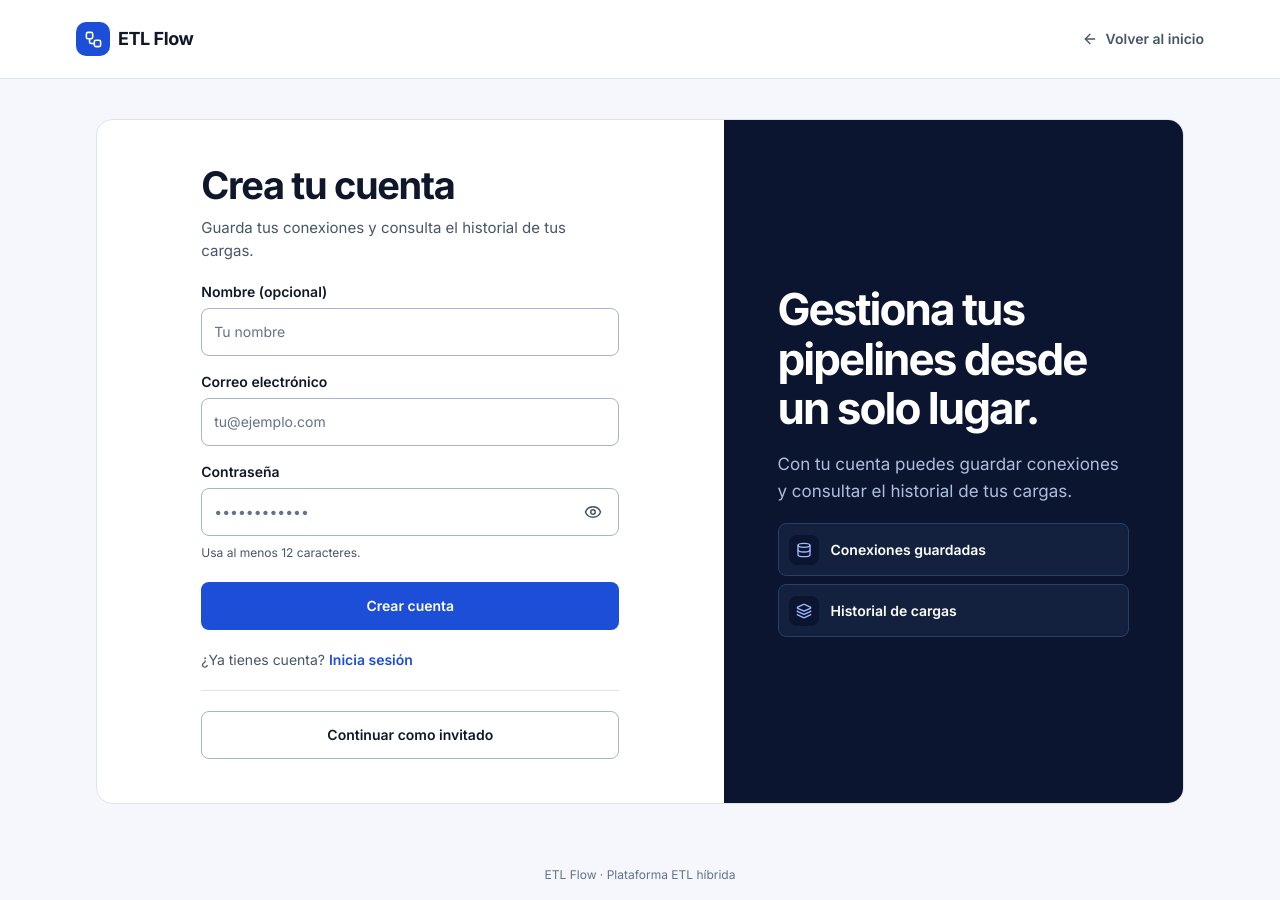
Test: account forms › reports signup errors without showing the provider response
The image size is (1280, 900).
Type "person@example.com" into the field labelled "Correo electrónico" at (410, 422), box [201,398,619,446]
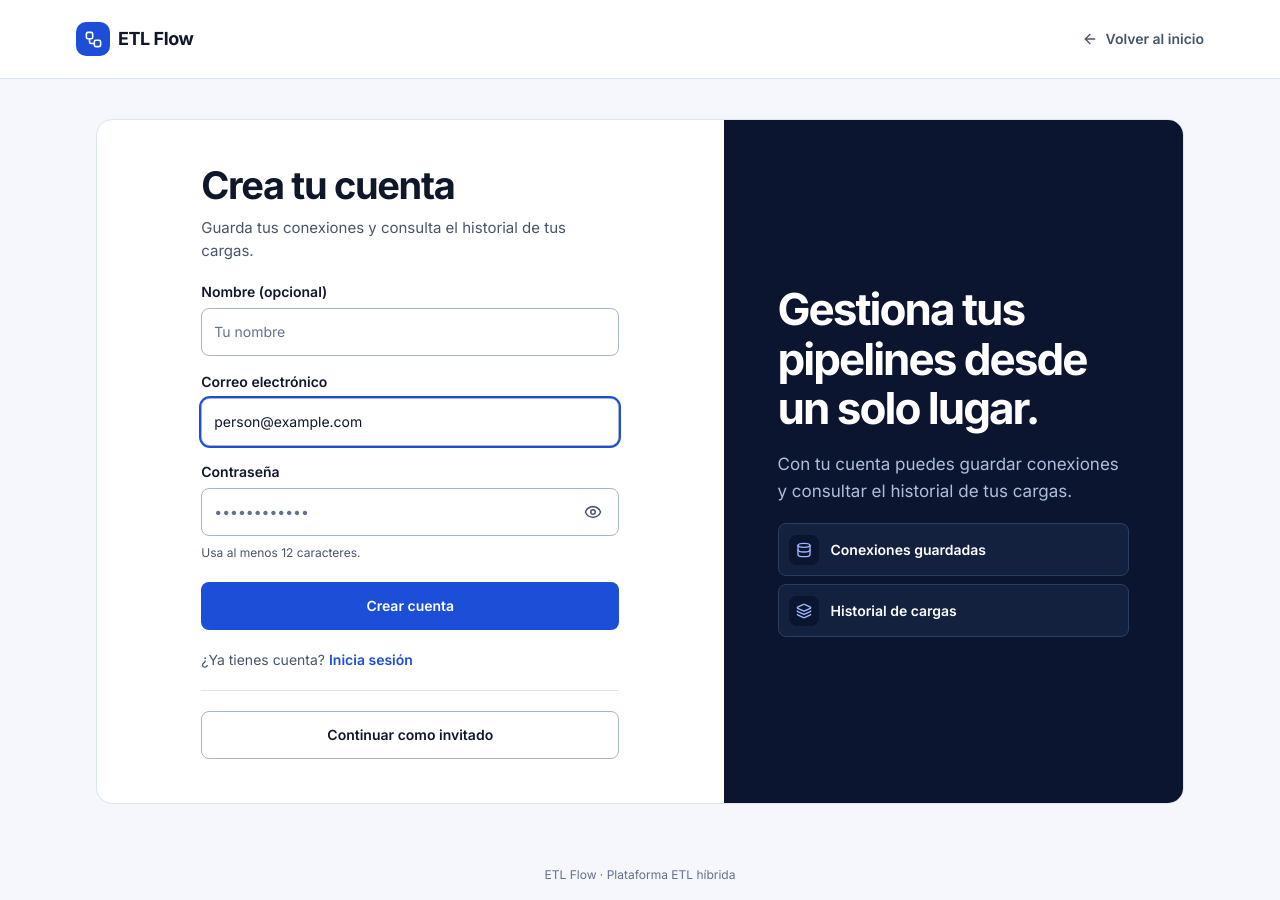
Type "synthetic-passphrase" into the password field labelled "Contraseña" at (410, 512), box [201,488,619,536]
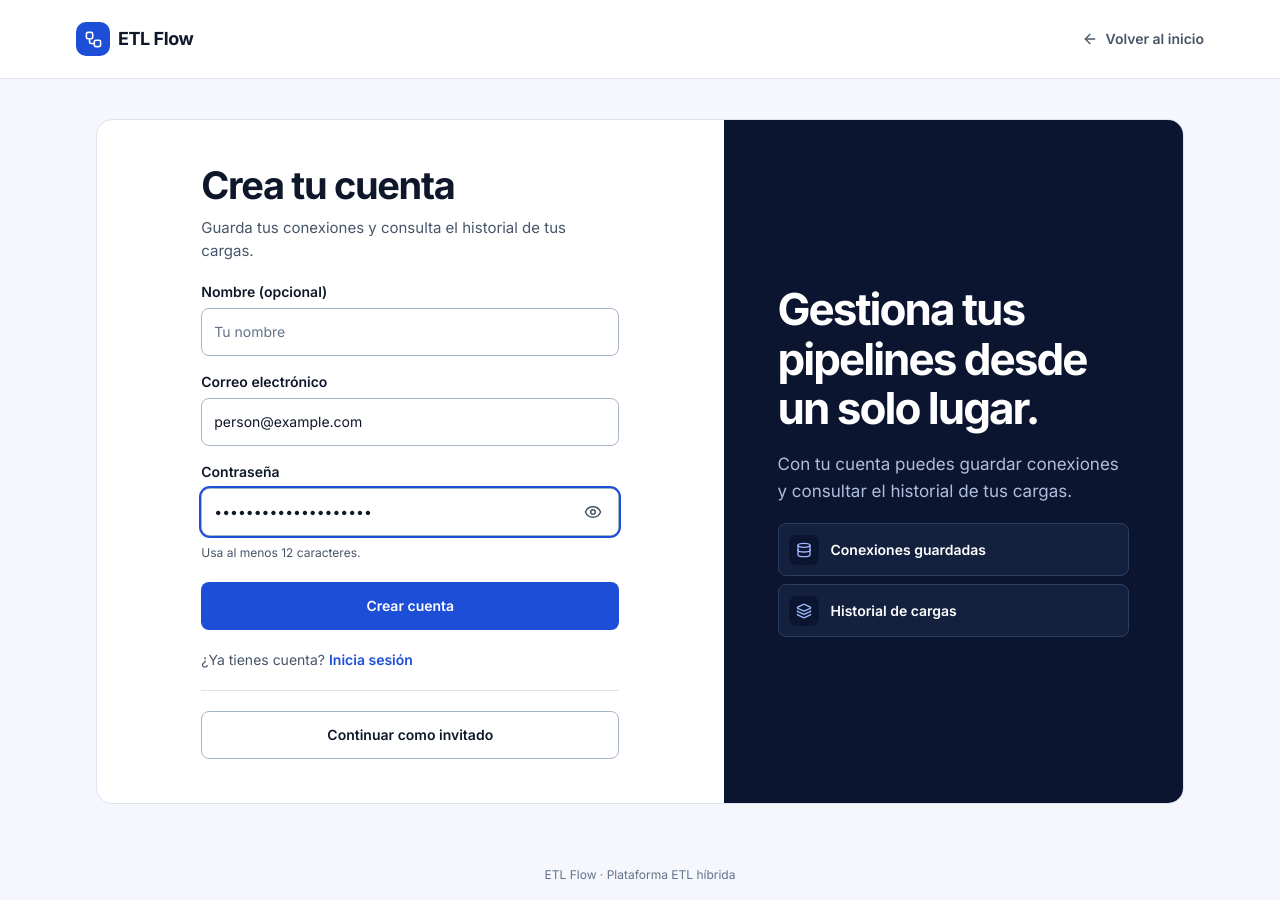
Click the button "Crear cuenta" at (410, 606), box [201,582,619,630]
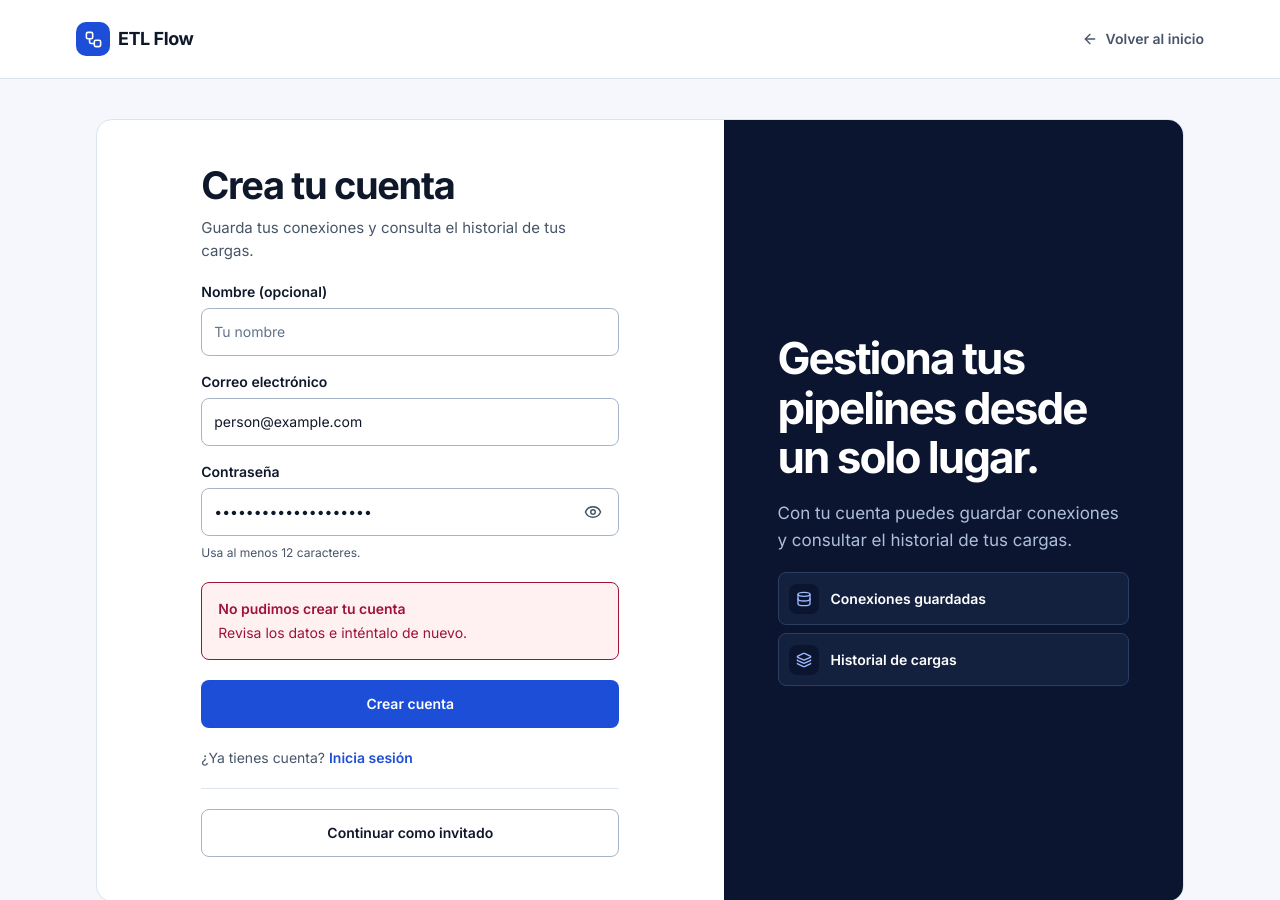
expect the message does not show "user already registered": met, box [201,582,619,660]
expect the message shows "No pudimos crear tu cuenta": met, box [218,600,406,617]
